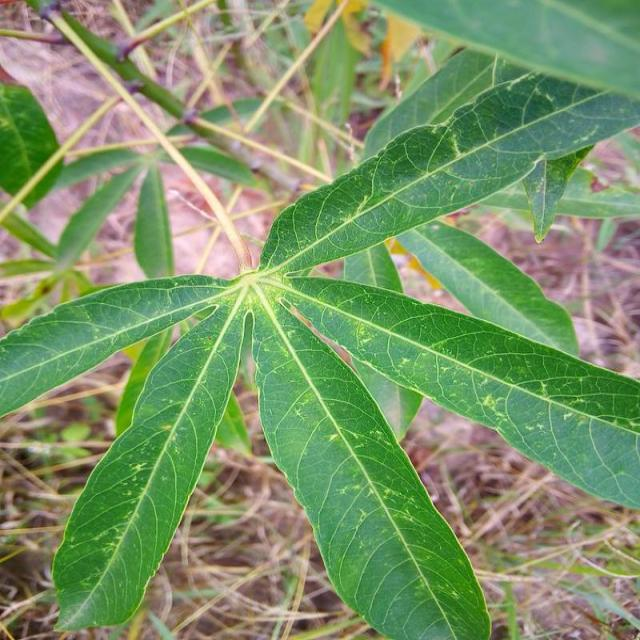cassava leaf: (2, 18, 640, 637), (251, 287, 493, 638), (52, 289, 250, 633)
